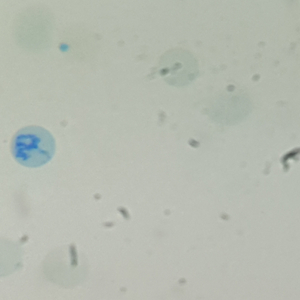aggregate reticulocyte: (9, 124, 57, 168)
erythrocyte: (41, 246, 92, 291), (10, 4, 56, 52), (157, 46, 203, 90)
